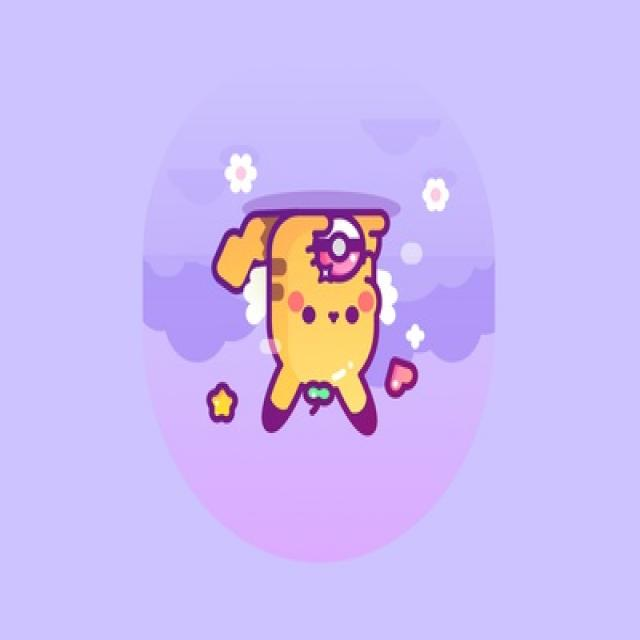Pikachu: (98, 73, 507, 552)
